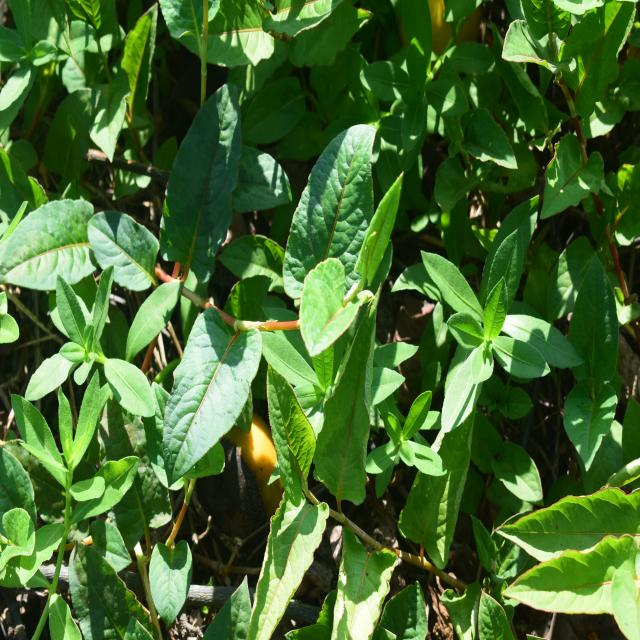Chinese_knotweed: (151, 133, 396, 481)
